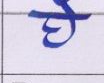ai_matra: (51, 0, 79, 14)
